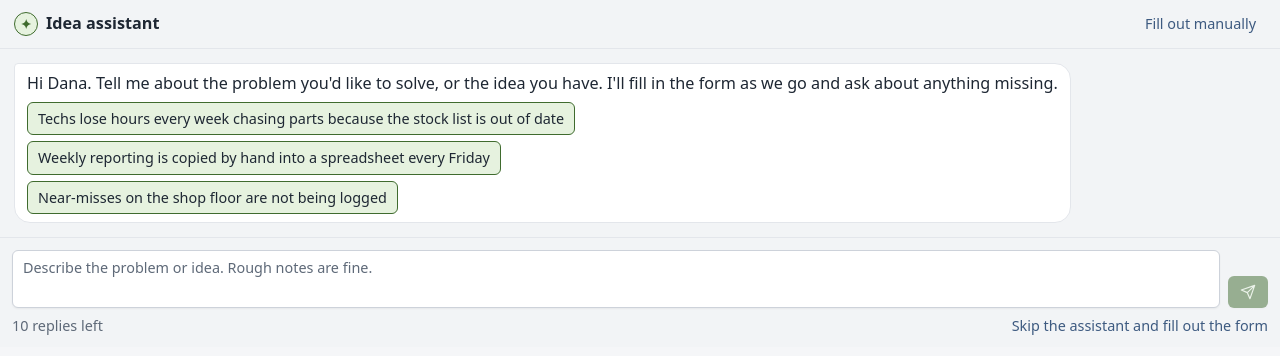
Test: AssistChat turns › applies the answer’s changes to the form and shows what was filled in
Type "Techs lose hours" into the text box named "Message the assistant" at (616, 279), box [12,250,1220,308]
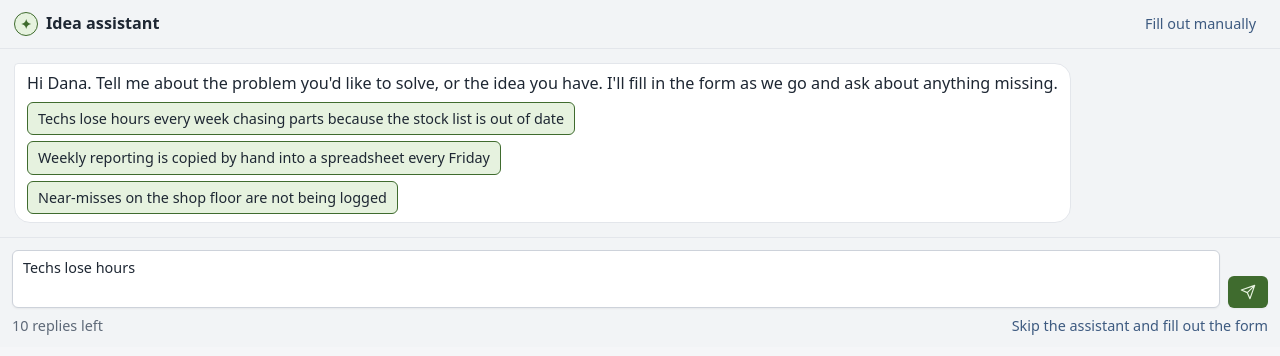
Click the button named "Send" at (1248, 292), box [1228,276,1268,308]
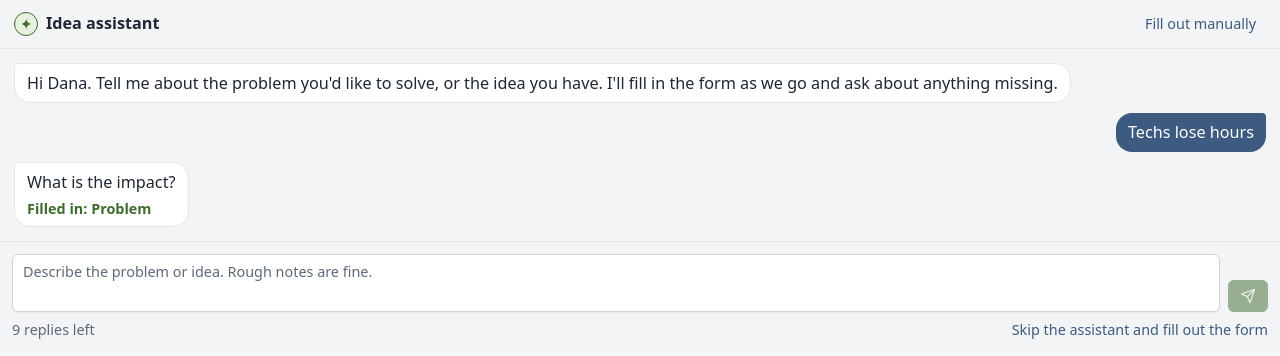
Result: the text "What is the impact?" is shown at [27,170,176,192]
Result: the text "Filled in: Problem" is shown at [27,199,152,218]
